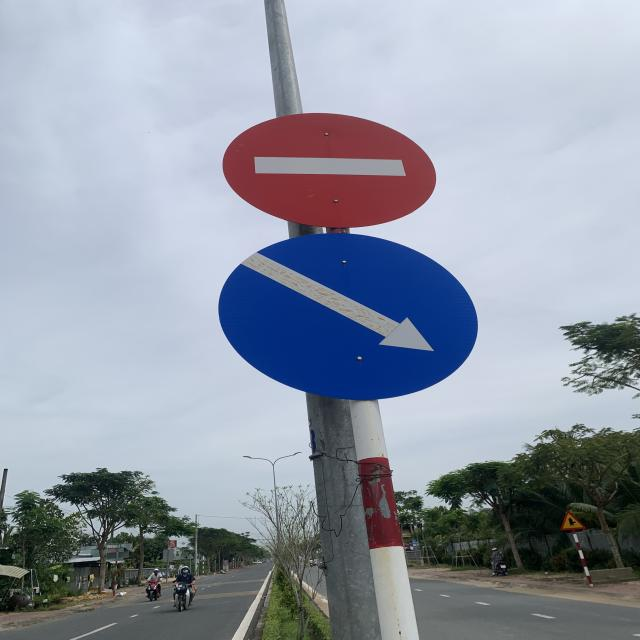Cam_Di_Nguoc_Chieu: (221, 111, 437, 227)
Chi_Huong_Di_Phai: (217, 232, 480, 399)
